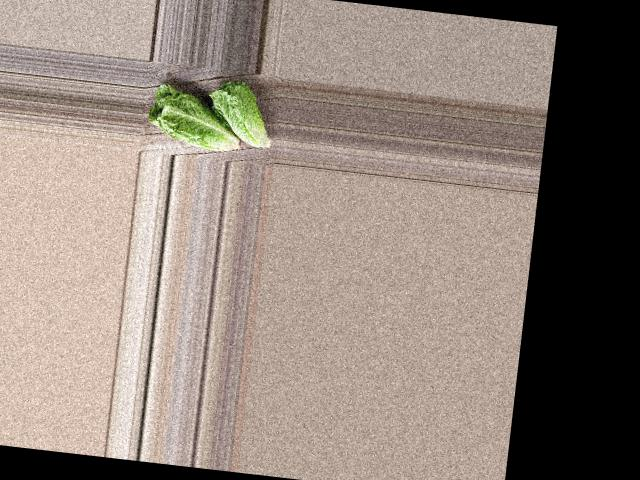lettuce: (202, 72, 282, 152)
